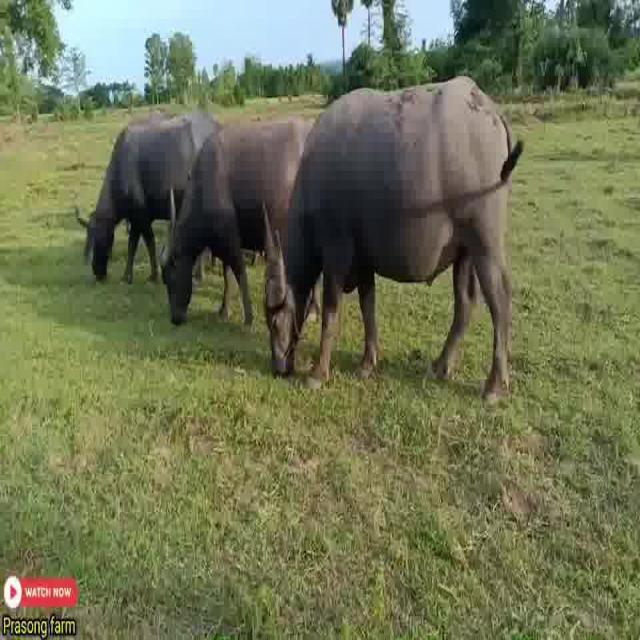buffalo: (69, 97, 230, 281)
